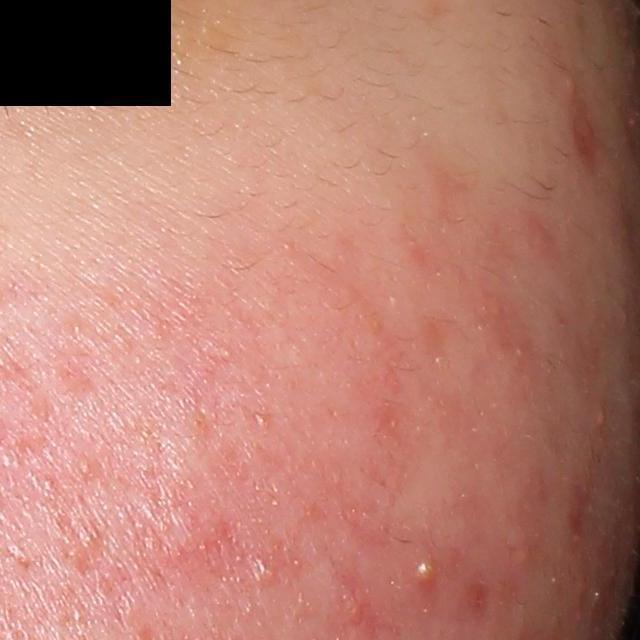pustule: (410, 560, 435, 587)
